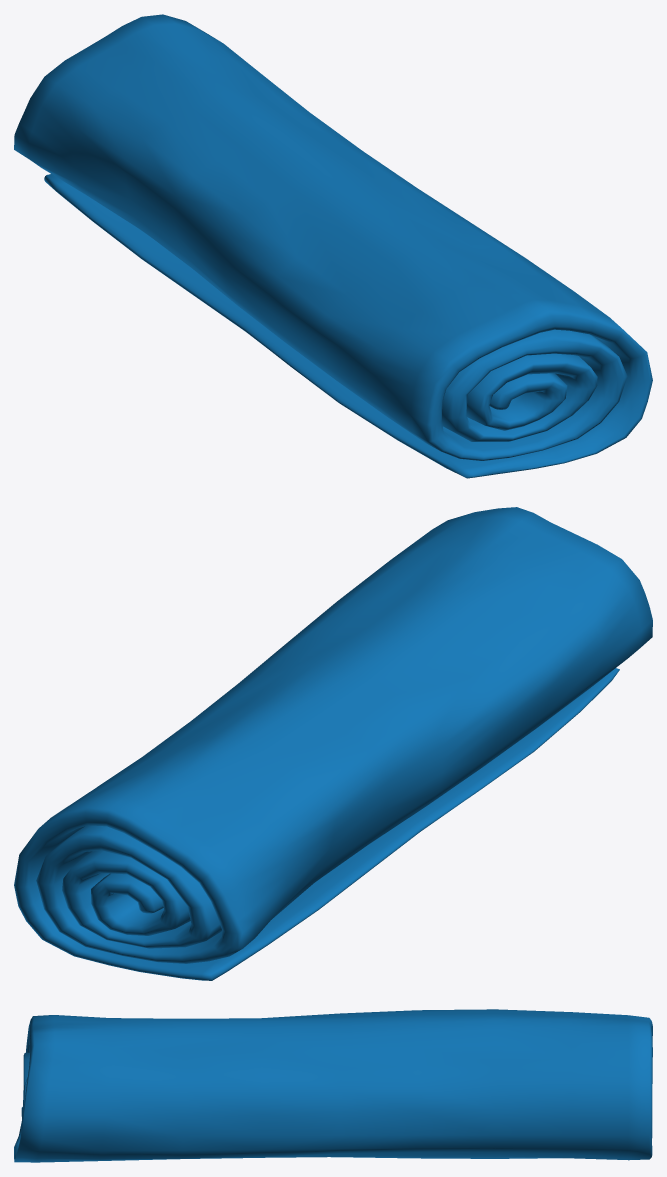
Rendered from SM_Towel_Roll_Blue.fbx.
3 renders of one model, top to bottom at view 1: azimuth 30°, elevation 25°; view 2: azimuth 150°, elevation 25°; view 3: azimuth 270°, elevation 25°, orthographic. The views are drawn at different scales.
Parts seen in each view (by area): view 1: SM_Towel_Roll_Blue; view 2: SM_Towel_Roll_Blue; view 3: SM_Towel_Roll_Blue.
Boxes of the visible parts, x1,y1,x2,y2 form: SM_Towel_Roll_Blue: (14, 14, 652, 478); SM_Towel_Roll_Blue: (14, 507, 652, 980); SM_Towel_Roll_Blue: (14, 1009, 652, 1162).
Size of the model in its own units: 20.09 by 12.91 by 61.5.
